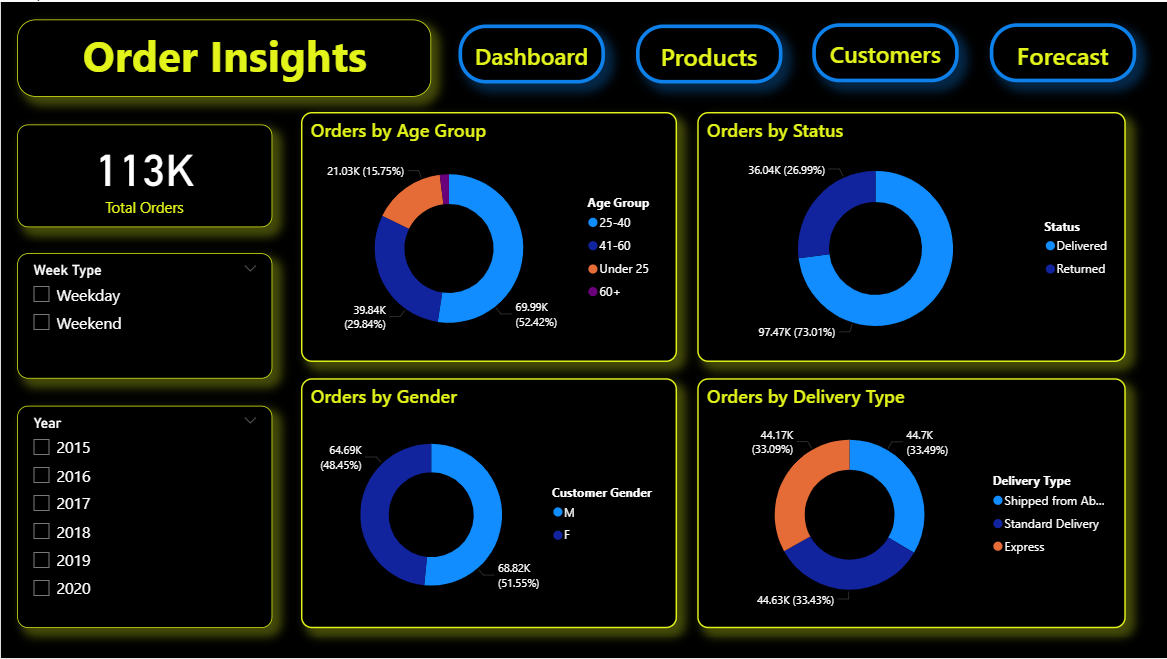

The page's visual inventory and layout, read from the dashboard file:
{"tool":"powerbi","page":{"name":"Page 2","canvas":[1280,720],"ordinal":1},"visuals":[{"type":"textbox","title":"Order Insights","box":[17.8,19.2,454.2,85.1],"z":0},{"type":"slicer","fields":{"Values":["DateTable.Year"]},"box":[17.8,443.2,279.9,244.3],"z":1000},{"type":"donutChart","title":"Orders by Status","fields":{"Category":["Flipkart Sales Dataset.Status"],"Y":["CountNonNull(Flipkart Sales Dataset.OrderID)"]},"box":[764.3,120.8,470.7,274.4],"z":2000},{"type":"donutChart","title":"Orders by Delivery Type","fields":{"Y":["CountNonNull(Flipkart Sales Dataset.OrderID)"],"Category":["Flipkart Sales Dataset.Delivery Type"]},"box":[764.3,413,470.7,274.4],"z":3000},{"type":"donutChart","title":"Orders by Gender","fields":{"Y":["CountNonNull(Flipkart Sales Dataset.OrderID)"],"Category":["Flipkart Sales Dataset.Customer Gender"]},"box":[329.3,413,413,274.4],"z":4000},{"type":"donutChart","title":"Orders by Age Group","fields":{"Y":["CountNonNull(Flipkart Sales Dataset.OrderID)"],"Category":["Flipkart Sales Dataset.Age Group"]},"box":[329.3,120.8,413,274.4],"z":5000},{"type":"slicer","fields":{"Values":["DateTable.Week Type"]},"box":[17.8,275.8,279.9,137.2],"z":6000},{"type":"card","fields":{"Values":["Flipkart Sales Dataset.Total Orders"]},"box":[17.8,134.5,279.9,112.5],"z":7000},{"type":"actionButton","box":[502.2,24.7,160.5,64.5],"z":8000},{"type":"actionButton","box":[696.6,24.7,160.5,64.5],"z":9000},{"type":"actionButton","box":[891,23.3,160.5,64.5],"z":10000},{"type":"actionButton","box":[1085.4,23.3,160.5,64.5],"z":11000}]}

Visuals, with their boxes in screenshot pixels (x1, y1, x2, y2), scaled from the page's 1280x720 canvas onto the 1167x659 screenshot:
"Order Insights" textbox: (left=16, top=18, right=430, bottom=95)
slicer - DateTable.Year: (left=16, top=406, right=271, bottom=629)
"Orders by Status" donutChart: (left=697, top=111, right=1126, bottom=362)
"Orders by Delivery Type" donutChart: (left=697, top=378, right=1126, bottom=629)
"Orders by Gender" donutChart: (left=300, top=378, right=677, bottom=629)
"Orders by Age Group" donutChart: (left=300, top=111, right=677, bottom=362)
slicer - DateTable.Week Type: (left=16, top=252, right=271, bottom=378)
card - Flipkart Sales Dataset.Total Orders: (left=16, top=123, right=271, bottom=226)
actionButton: (left=458, top=23, right=604, bottom=82)
actionButton: (left=635, top=23, right=781, bottom=82)
actionButton: (left=812, top=21, right=959, bottom=80)
actionButton: (left=990, top=21, right=1136, bottom=80)
